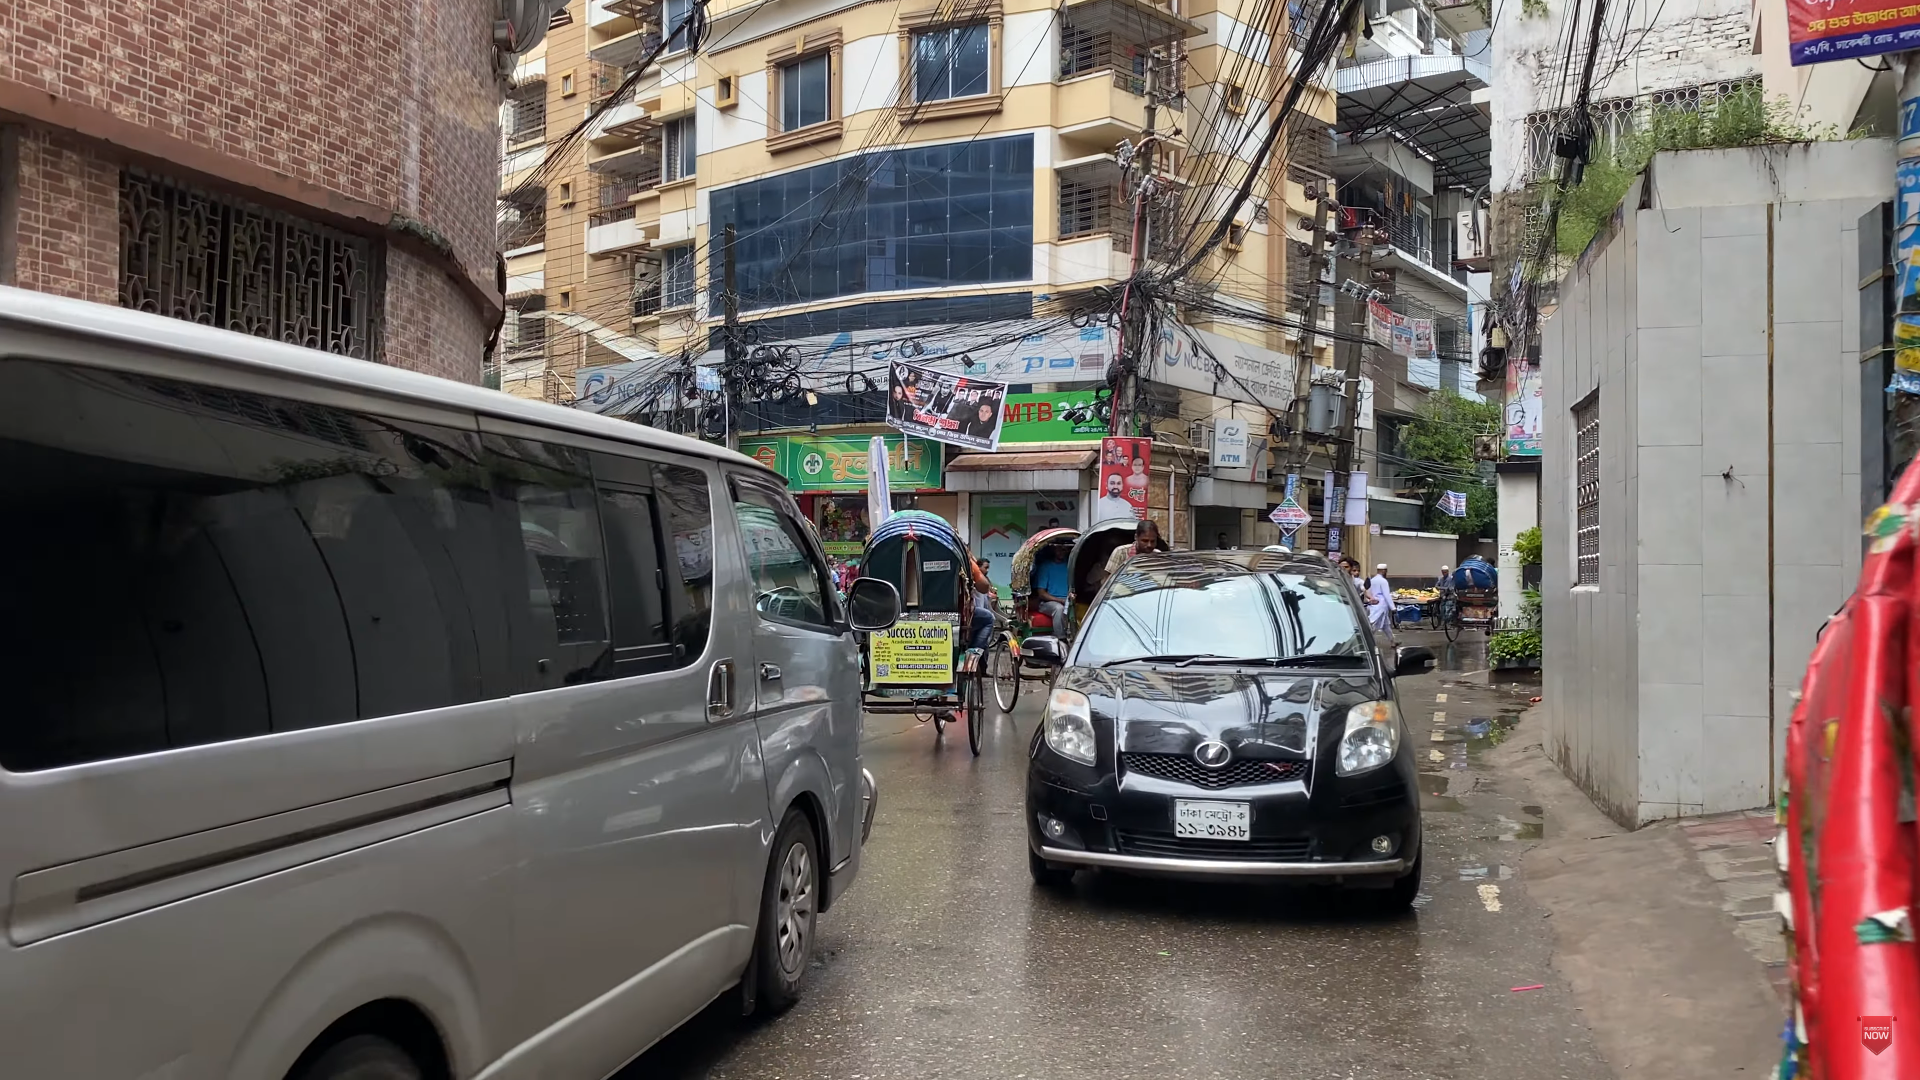Car: (22, 282, 887, 1026), (1015, 535, 1435, 920)
Rickshaw: (898, 518, 990, 756)
